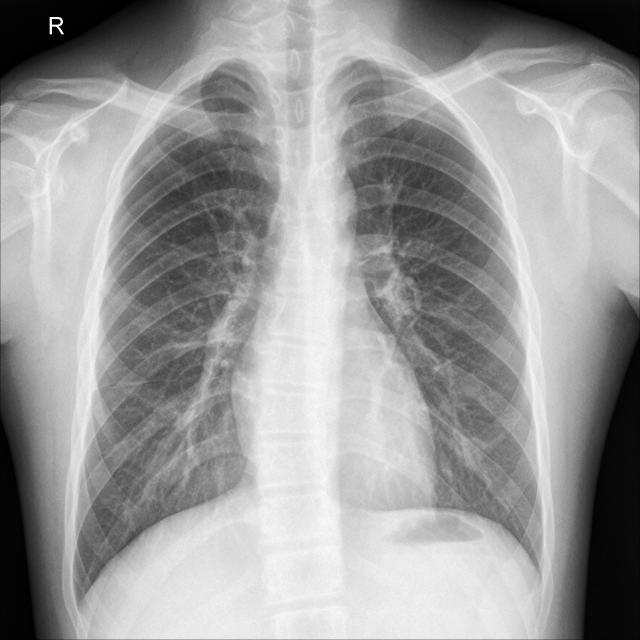no-pneumonia: (75, 61, 281, 598), (337, 60, 543, 564)
